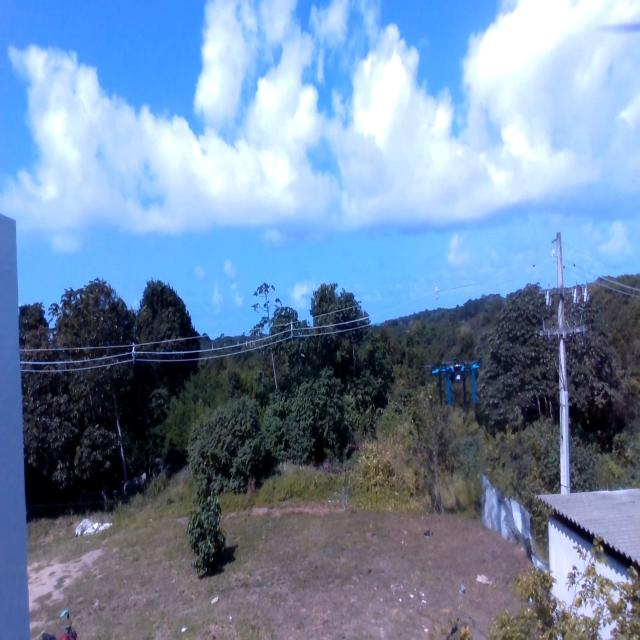-uav-: (422, 347, 496, 425)
